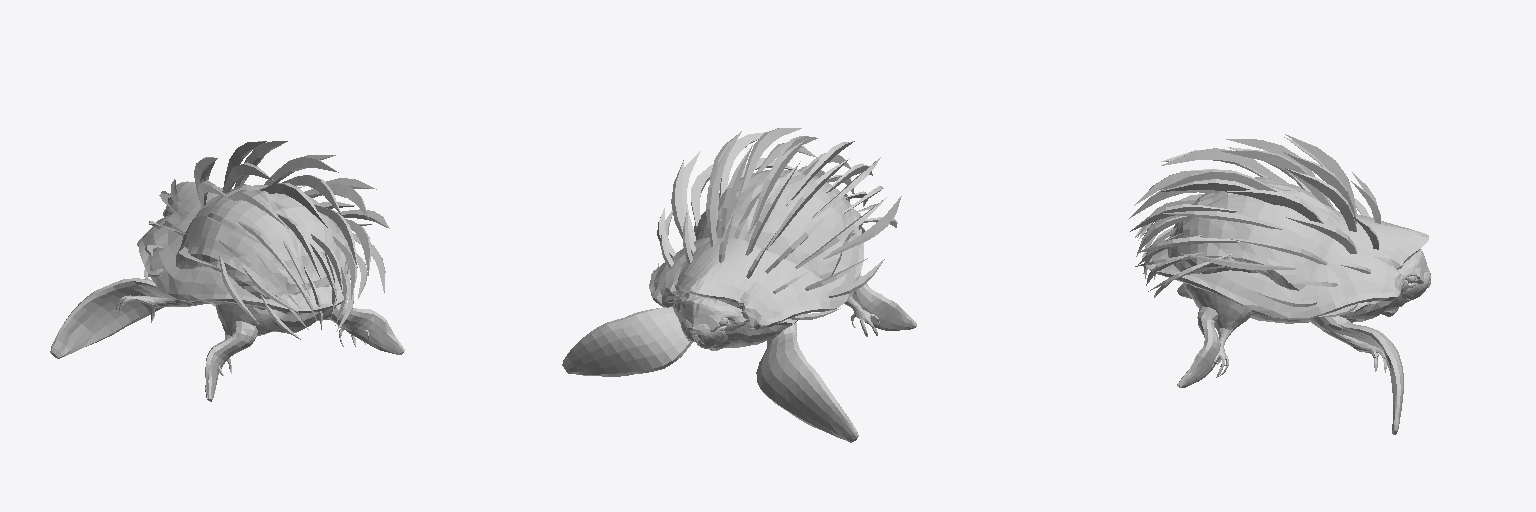
The model's file is DIGGER.obj.
The picture shows the model from 3 angles: view 1: azimuth 30°, elevation 25°; view 2: azimuth 150°, elevation 25°; view 3: azimuth 270°, elevation 25°; orthographic projection.
Visible parts, largest first — view 1: _Digger_B, _Spikes_A, _Digger_C; view 2: _Digger_B, _Spikes_A, _Digger_C; view 3: _Spikes_A, _Digger_B, _Digger_C.
Part boxes in pixels (x1,y1,x2,y2): _Digger_B: (50,181,404,401); _Spikes_A: (144,141,389,339); _Digger_C: (116,184,368,375); _Digger_B: (562,229,916,442); _Spikes_A: (657,128,901,319); _Digger_C: (672,169,879,350); _Spikes_A: (1129,134,1380,316); _Digger_B: (1142,211,1430,434); _Digger_C: (1168,177,1430,377).
Bounding box in the file's own units: 1.58 × 1.13 × 1.4.